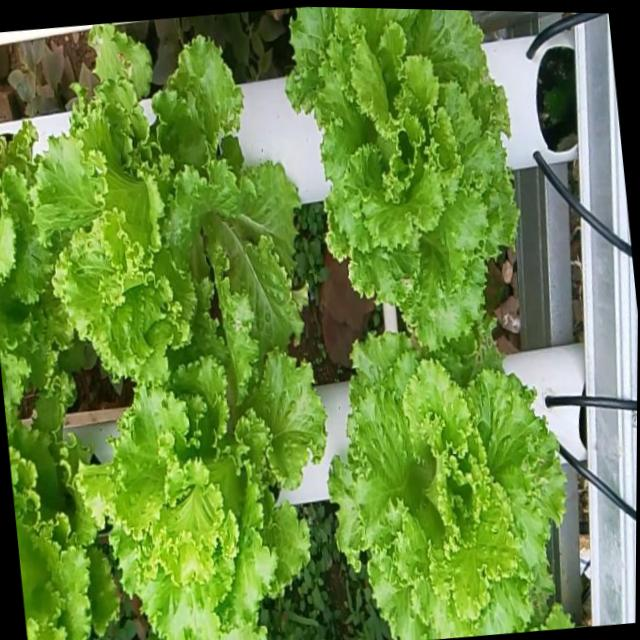Mature: (37, 25, 306, 381), (287, 7, 517, 358), (329, 318, 573, 635), (76, 341, 326, 640)
